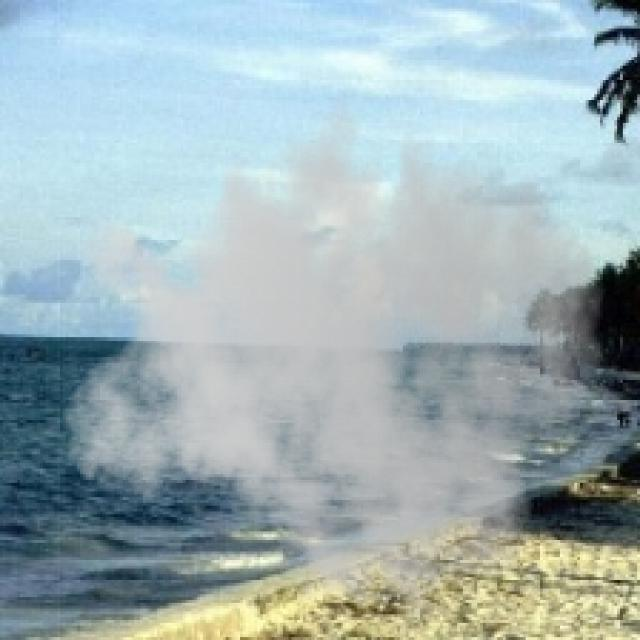Smoke: (60, 72, 606, 638)
